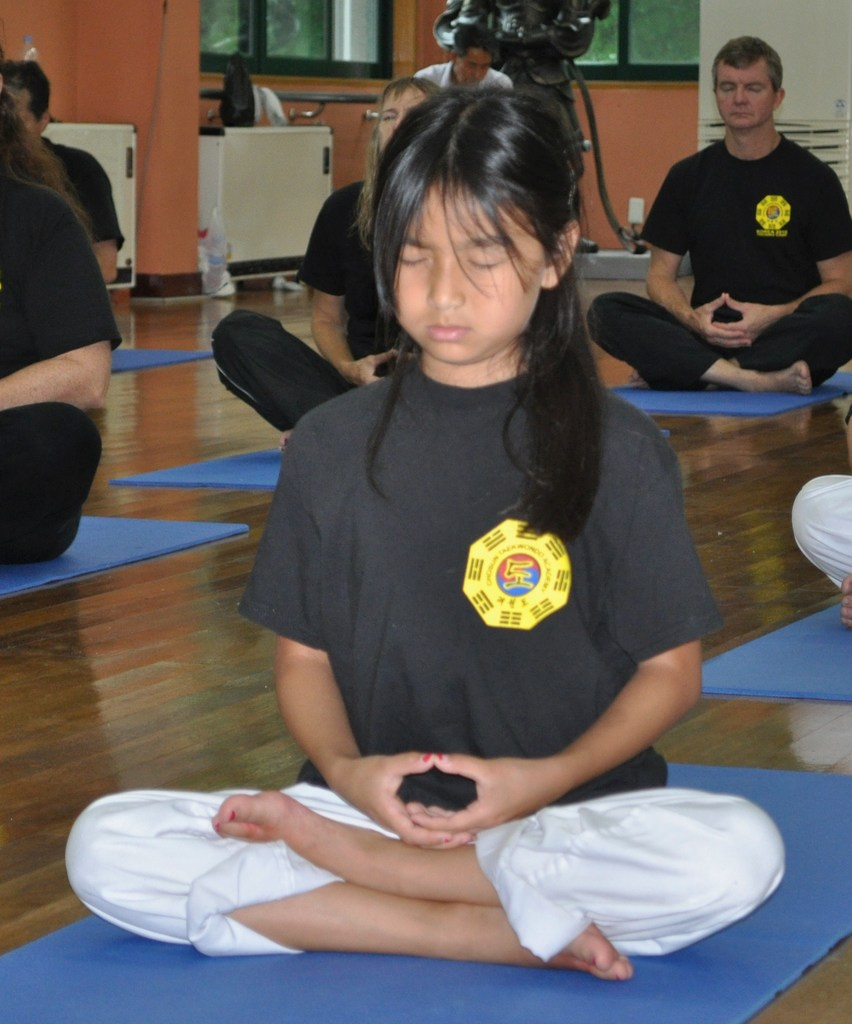Person: (58, 78, 792, 985), (581, 31, 852, 396), (204, 70, 443, 453), (0, 43, 126, 567), (0, 53, 128, 282), (789, 383, 852, 628), (406, 15, 516, 89)
